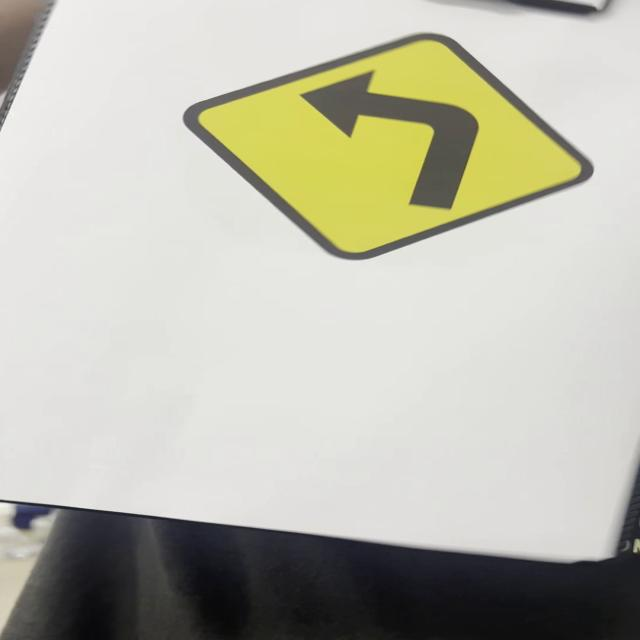left: (181, 32, 598, 262)
